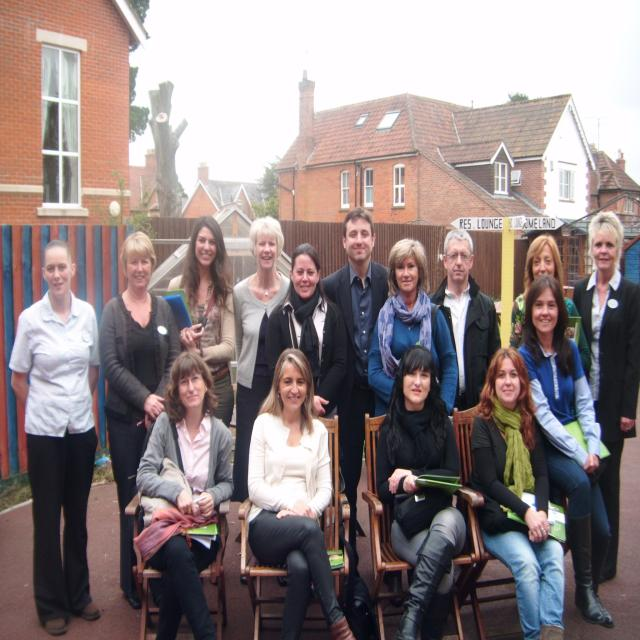body: (508, 273, 617, 631), (8, 239, 104, 638), (242, 346, 368, 640), (98, 230, 184, 614), (466, 345, 575, 640), (317, 205, 399, 573), (135, 350, 235, 640), (566, 209, 640, 588), (376, 346, 468, 640), (425, 228, 503, 568), (228, 213, 293, 543), (367, 236, 459, 439), (166, 213, 237, 430), (265, 242, 349, 422), (509, 233, 593, 389)
